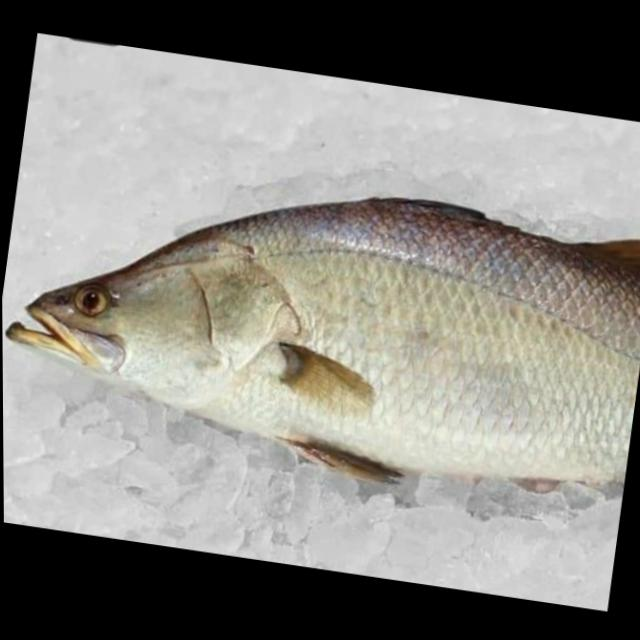Seabass: (1, 140, 640, 520)
